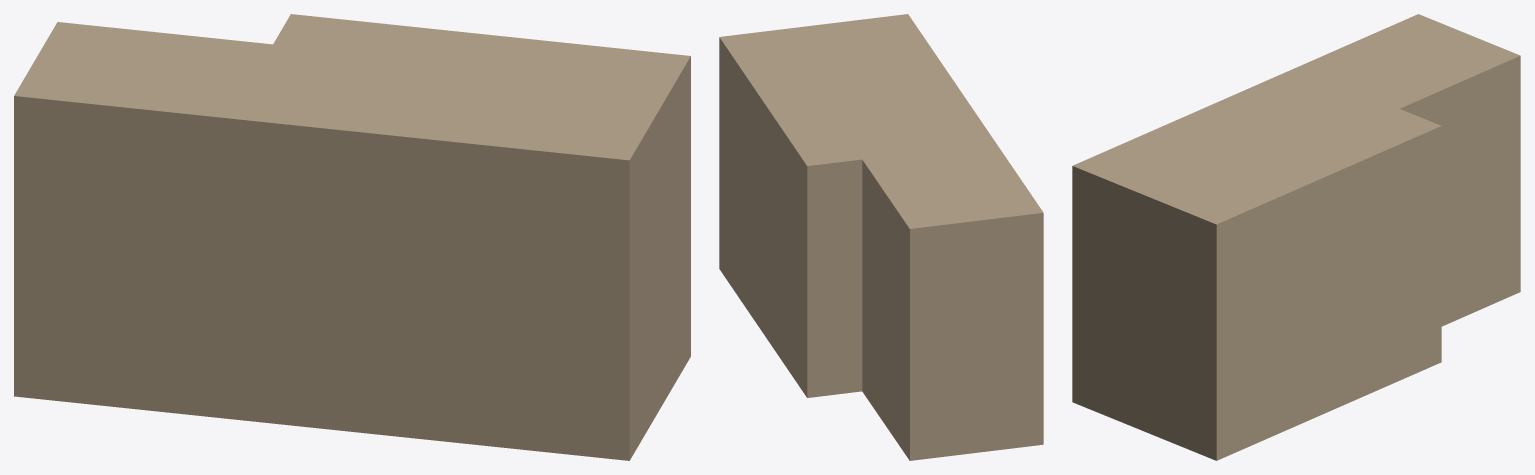
Rendered from bld_101353670.dae.
3 renders of one model, left to right at view 1: azimuth 30°, elevation 25°; view 2: azimuth 150°, elevation 25°; view 3: azimuth 270°, elevation 25°, orthographic. The views are drawn at different scales.
Visible parts, largest first — view 1: bld_101353670; view 2: bld_101353670; view 3: bld_101353670.
Boxes of the visible parts, x1=… form: bld_101353670: x1=14, y1=14, x2=690, y2=460; bld_101353670: x1=719, y1=14, x2=1043, y2=460; bld_101353670: x1=1072, y1=14, x2=1520, y2=460.
Size of the model in its own units: 15.28 by 13.75 by 8.
